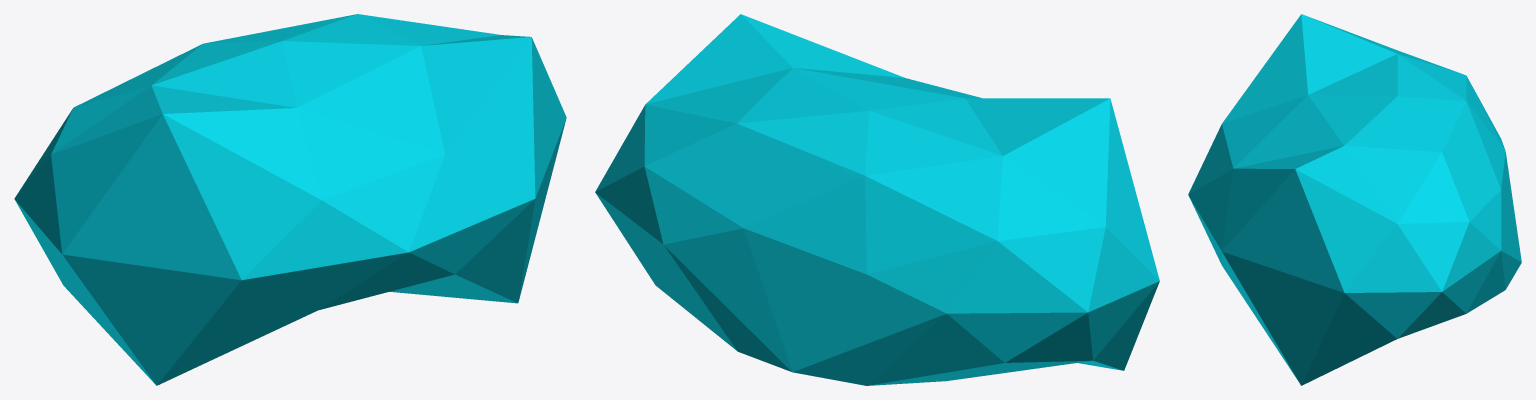
The model's file is MidShip.fbx.
The picture shows the model from 3 angles, left to right: view 1: azimuth 30°, elevation 25°; view 2: azimuth 150°, elevation 25°; view 3: azimuth 270°, elevation 25°; orthographic projection. The views are drawn at different scales.
Parts seen in each view (by area): view 1: Shield.003; view 2: Shield.003; view 3: Shield.003.
Part boxes in pixels (<box>): Shield.003: <box>14,14,566,385</box>; Shield.003: <box>595,14,1159,385</box>; Shield.003: <box>1188,14,1521,385</box>.
Size of the model in its own units: 19.63 by 13.6 by 10.27.
